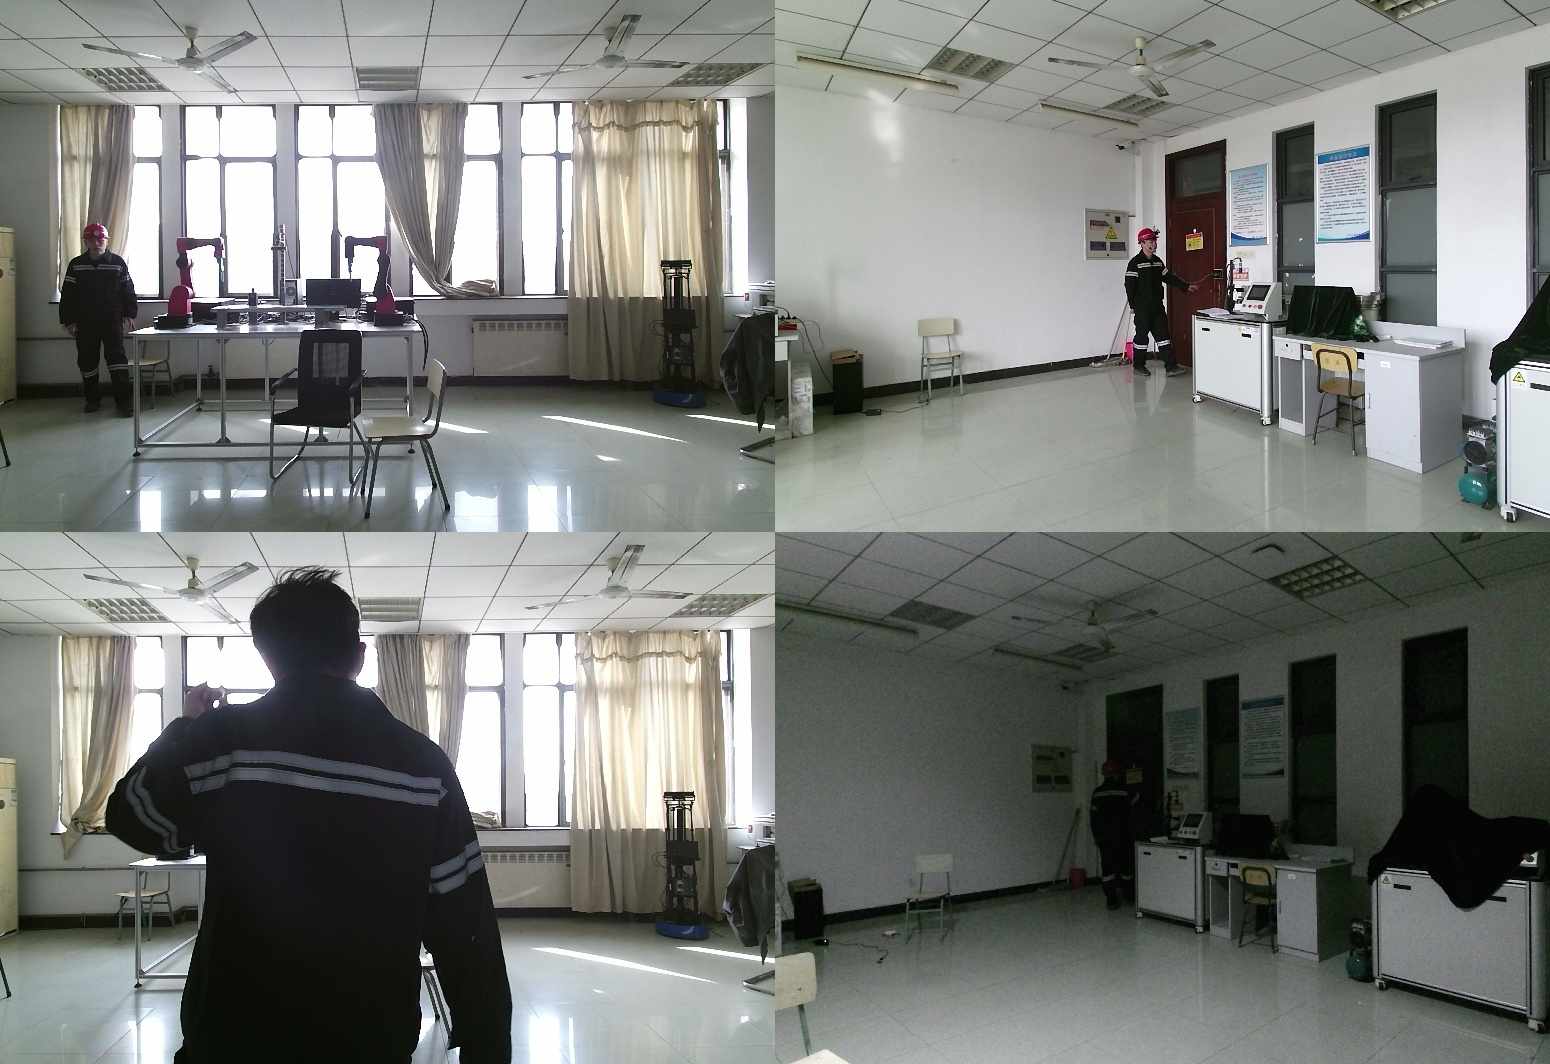person: (112, 573, 511, 1064), (57, 224, 137, 416), (1083, 762, 1156, 918), (1124, 228, 1180, 380)
